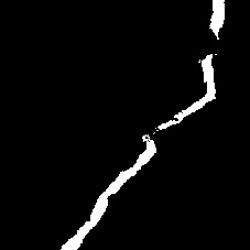crack: (60, 4, 226, 245)
